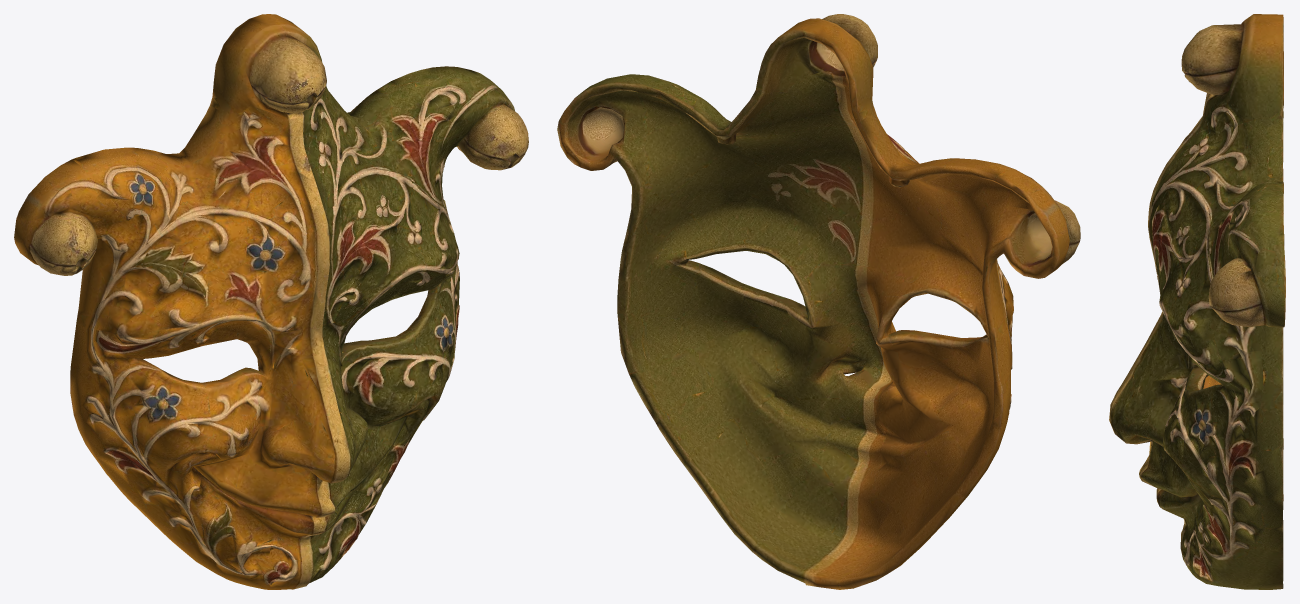
3 views of the same model, side by side, from view 1: azimuth 30°, elevation 25°; view 2: azimuth 150°, elevation 25°; view 3: azimuth 270°, elevation 25° (orthographic). The views are drawn at different scales.
Size of the model in its own units: 1.79 by 1.9 by 0.5425.
1 material, 1 textured.
